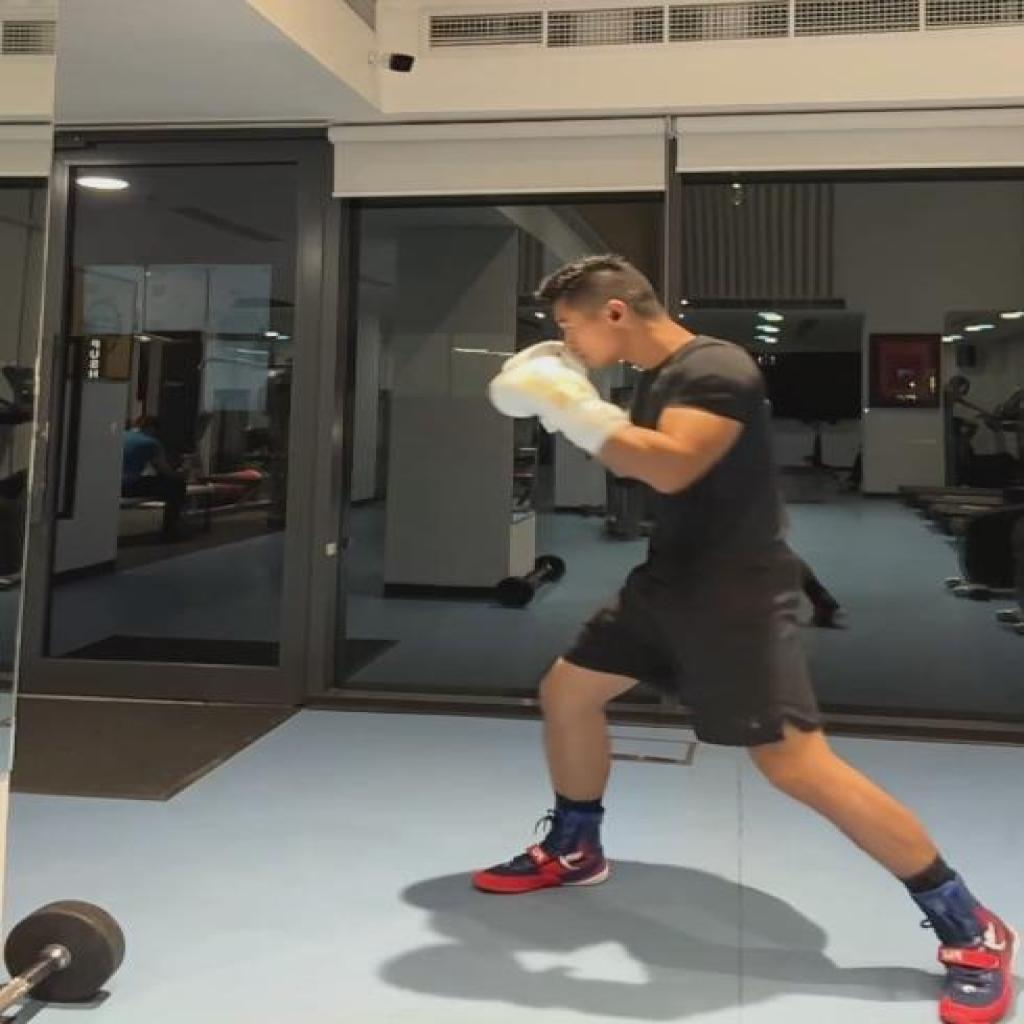no punch: (453, 244, 1024, 1022)
